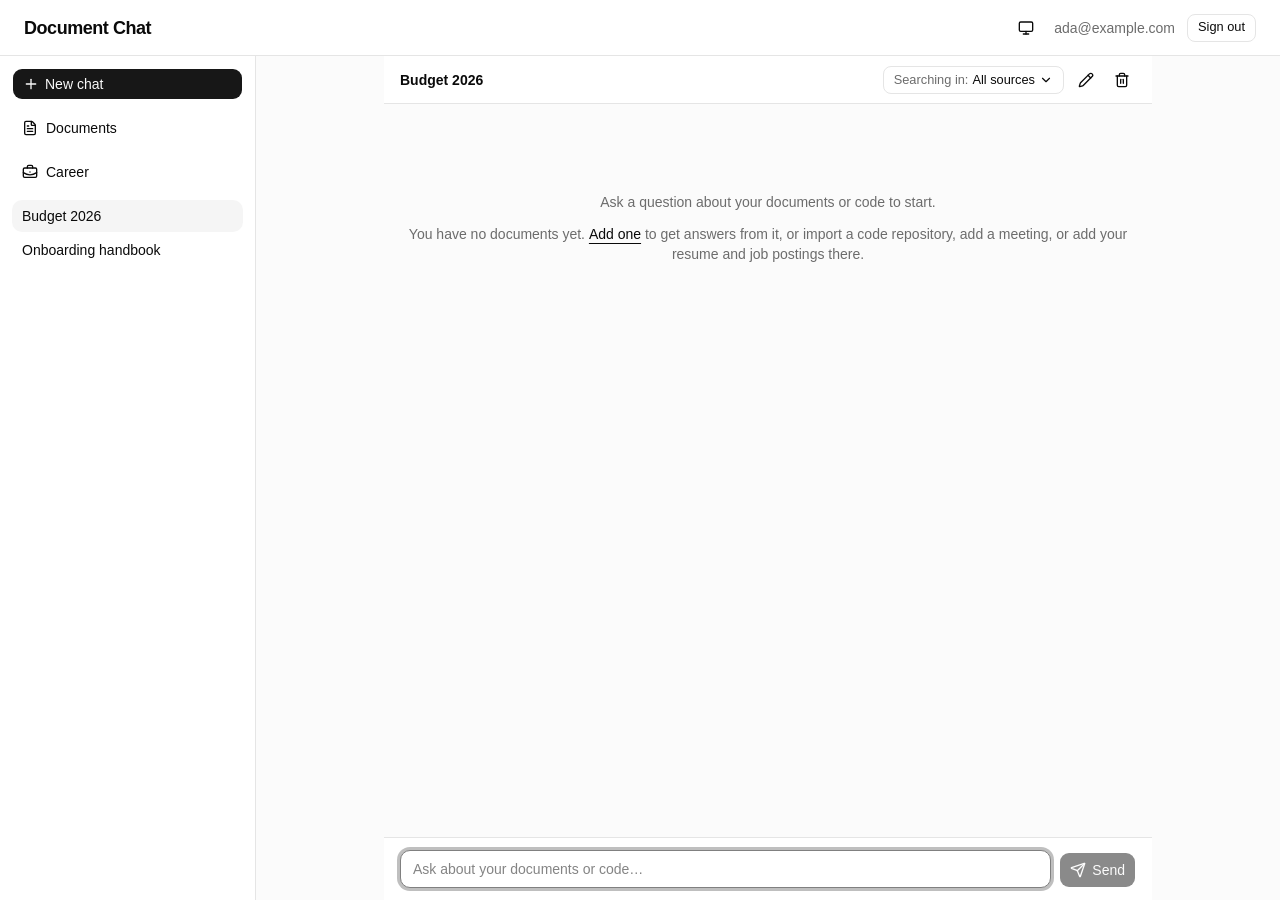
chat header › renaming › leaves the title alone on Escape and on Cancel
The width and height of the screenshot is (1280, 900).
Click the button named "Rename chat".
click(1086, 80)  # box x1=1072 y1=66 x2=1100 y2=94
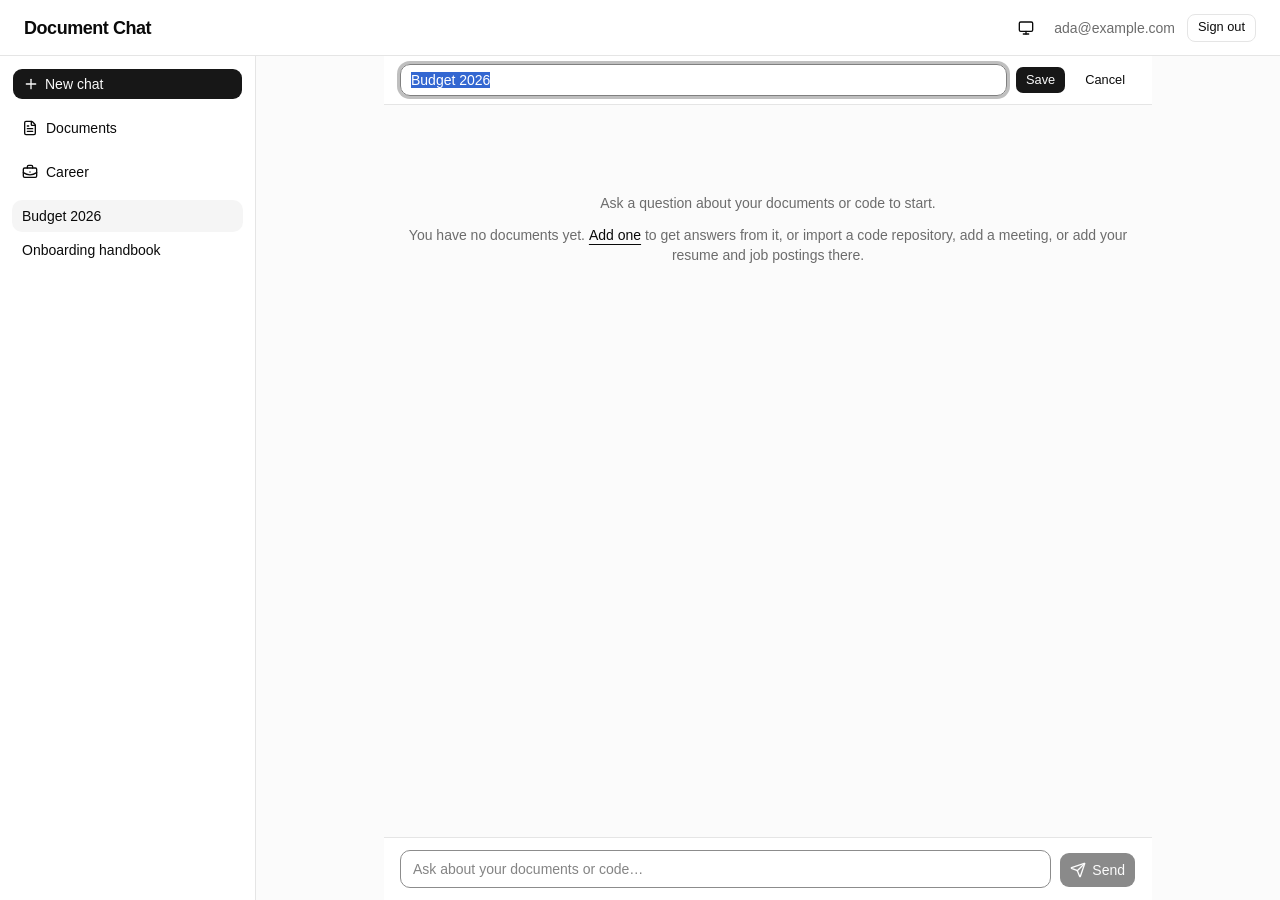
Type " changed" into the field named "Chat title".
click(704, 80); type(" changed")  # box x1=400 y1=64 x2=1007 y2=96
Then press Escape
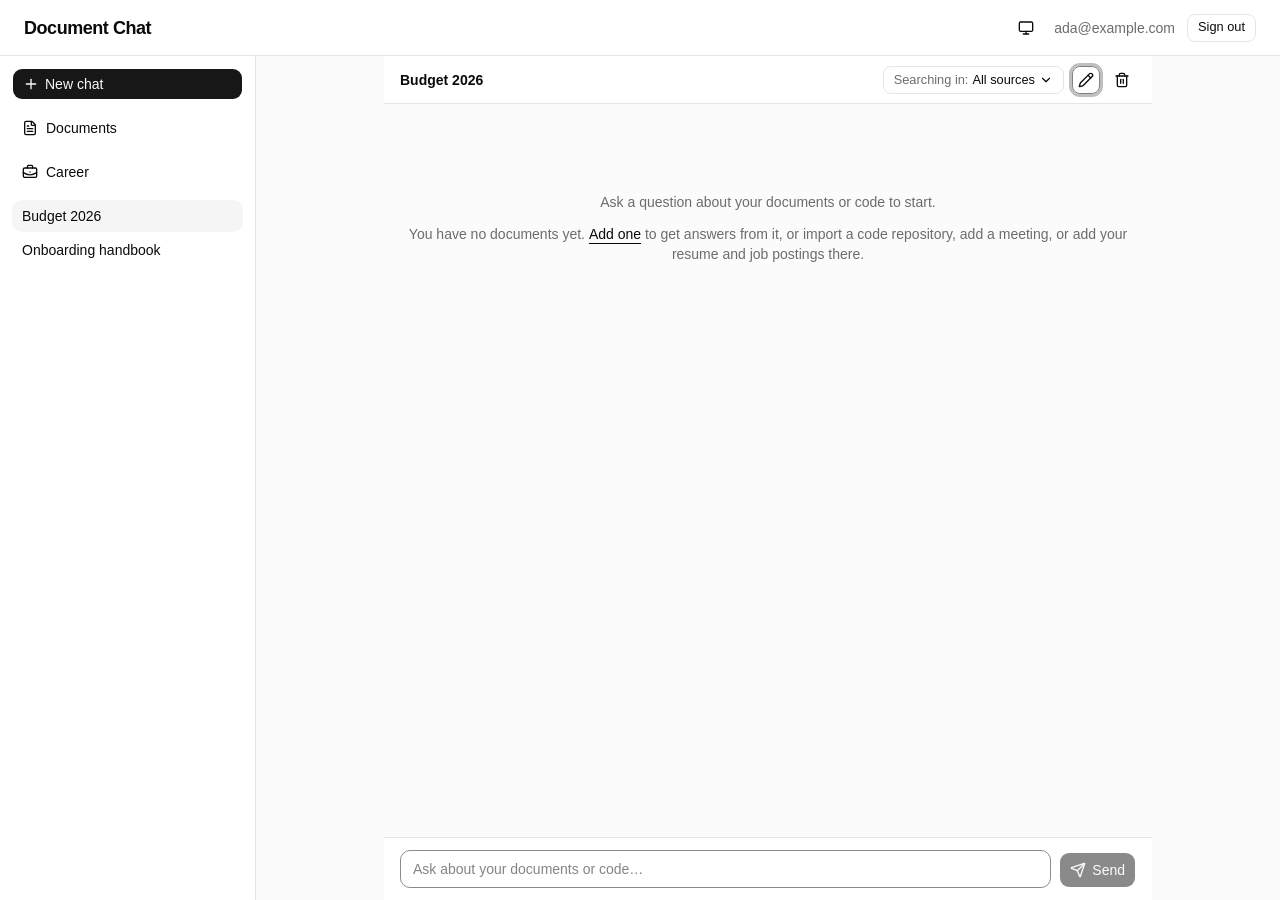
Now the heading "Budget 2026" is shown, box x1=400 y1=72 x2=483 y2=88
Click the button named "Rename chat".
click(1086, 80)  # box x1=1072 y1=66 x2=1100 y2=94
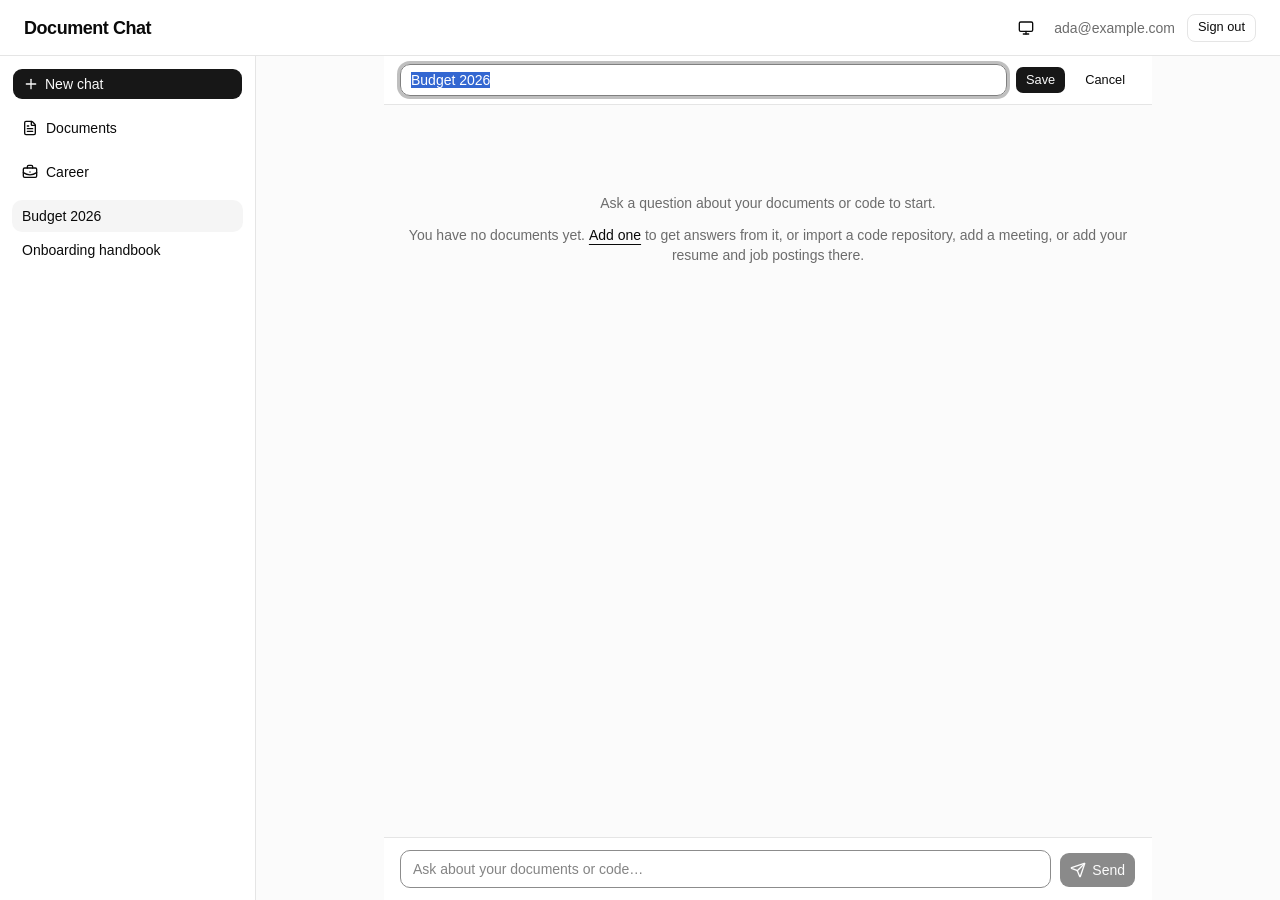
Type " again" into the field named "Chat title".
click(704, 80); type(" again")  # box x1=400 y1=64 x2=1007 y2=96
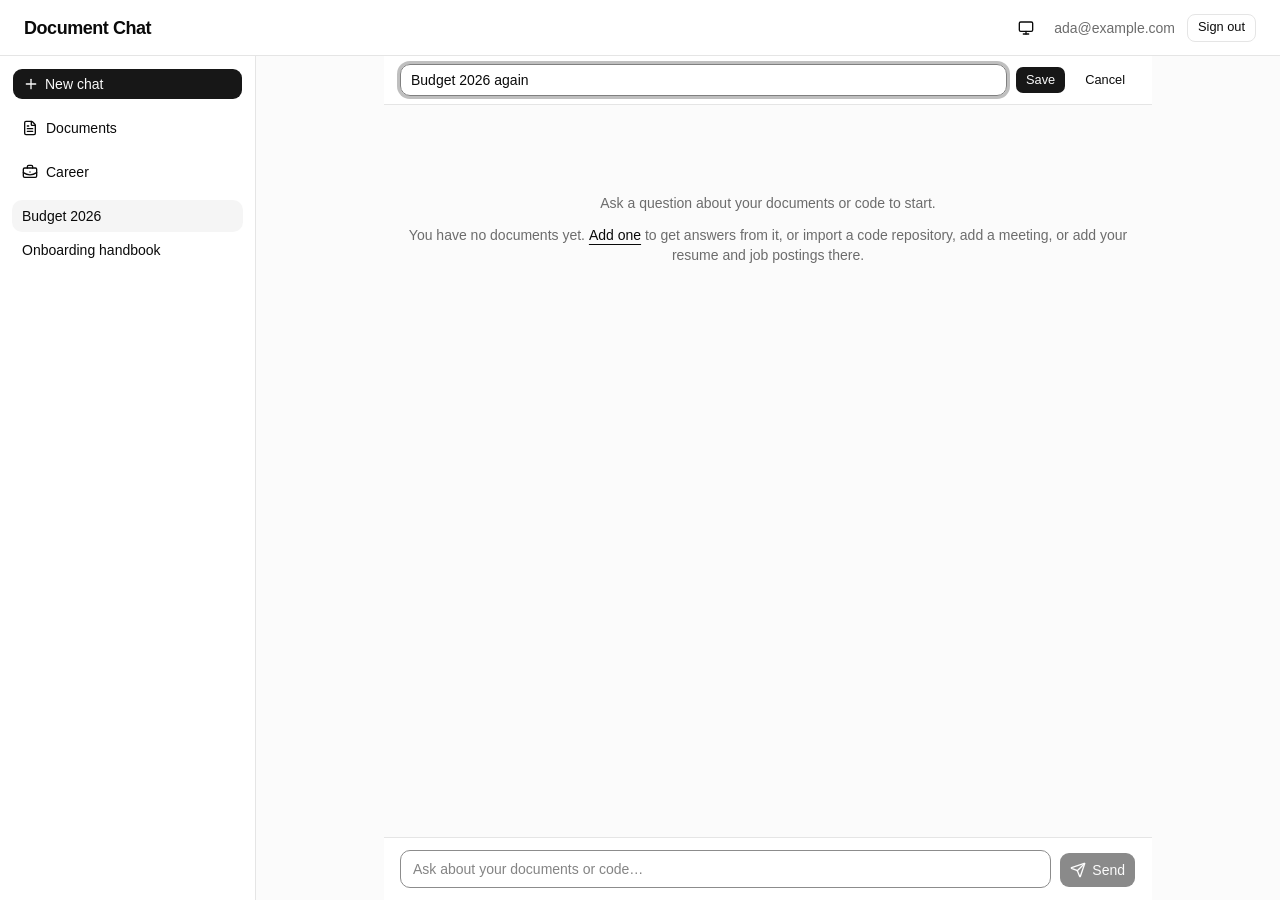
Click the button "Cancel".
click(1105, 80)  # box x1=1074 y1=66 x2=1136 y2=94
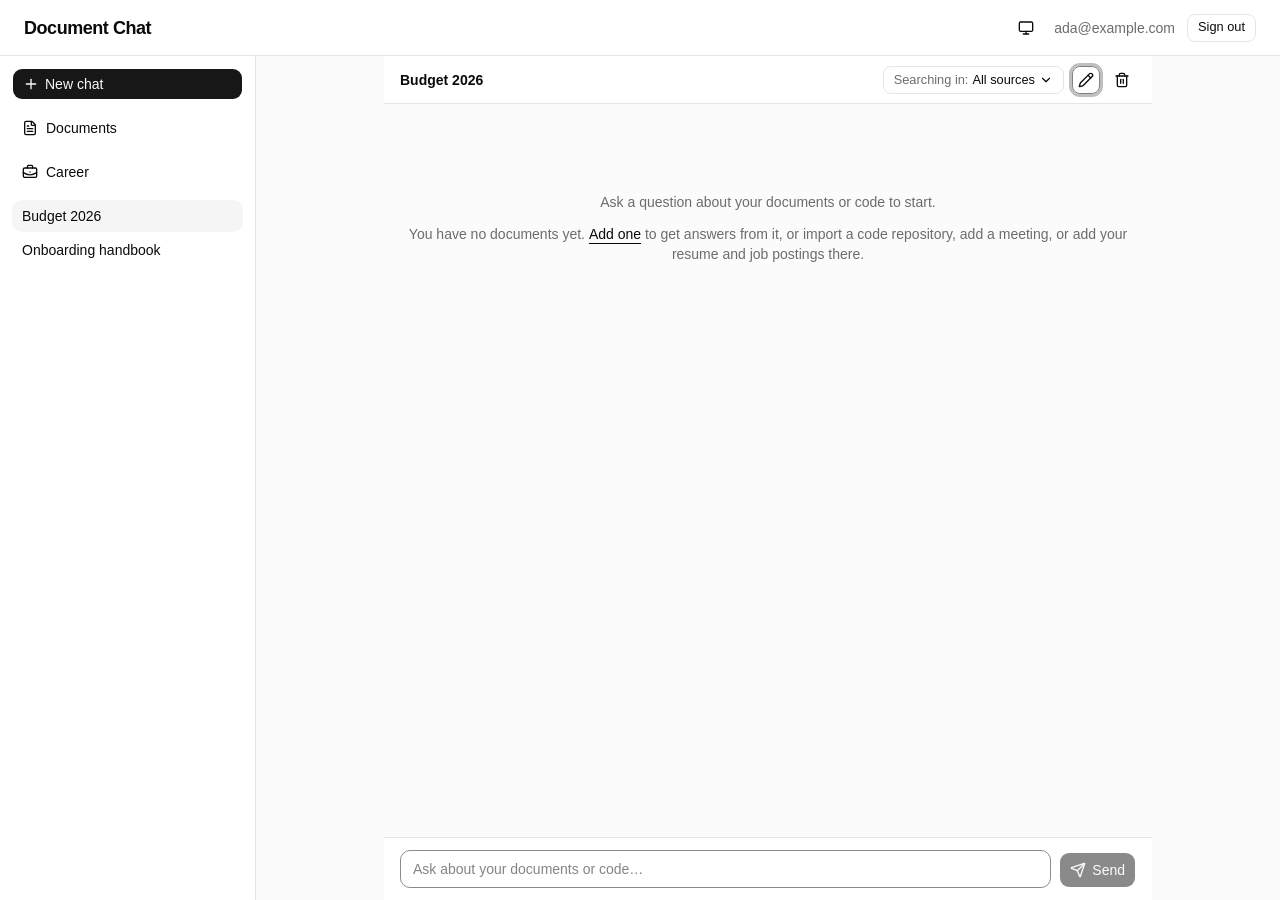
Now the heading "Budget 2026" is shown, box x1=400 y1=72 x2=483 y2=88
